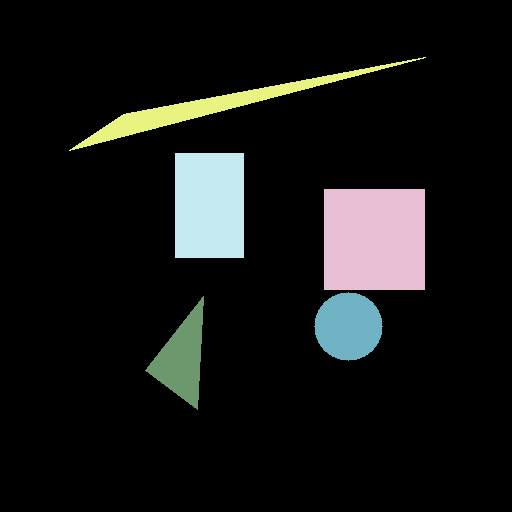circle: (314, 292, 382, 360)
rectangle: (175, 153, 243, 257)
square: (324, 189, 424, 289)
triangle: (69, 57, 425, 150), (145, 296, 203, 409)
